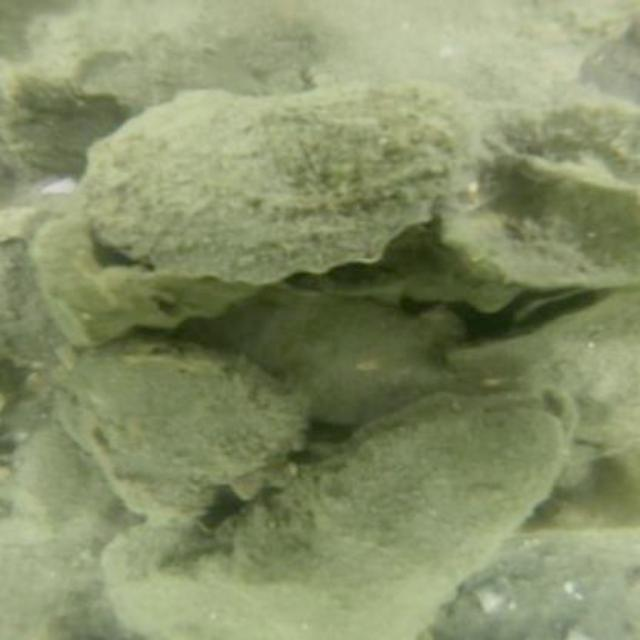Oyster-Closed: (227, 383, 574, 621), (76, 86, 483, 279), (99, 511, 438, 638), (57, 346, 300, 517), (436, 131, 638, 293), (200, 298, 438, 425), (454, 290, 635, 450)
Oyster-Open: (21, 202, 534, 352), (499, 287, 615, 332)
